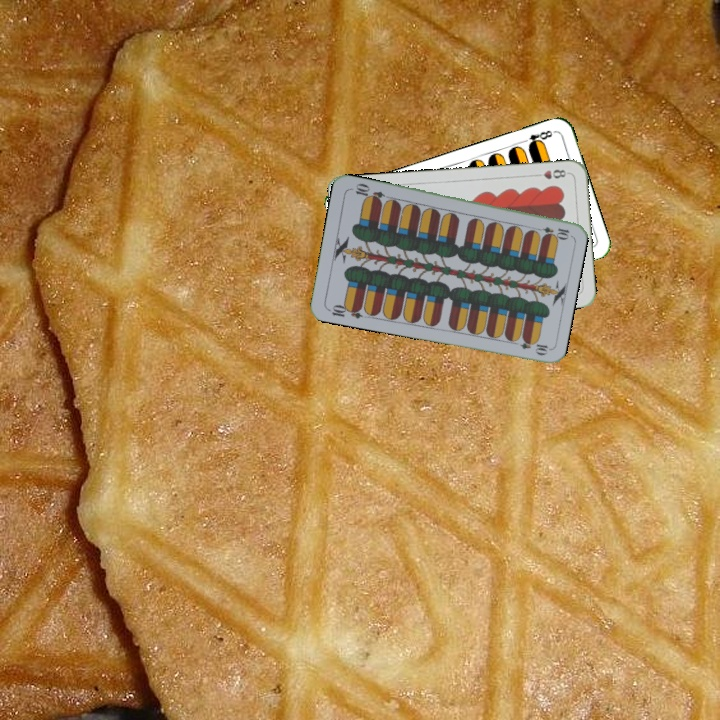E10: (324, 300, 364, 321), (531, 222, 572, 240)
E8: (518, 126, 558, 150)
H8: (531, 165, 571, 182)
